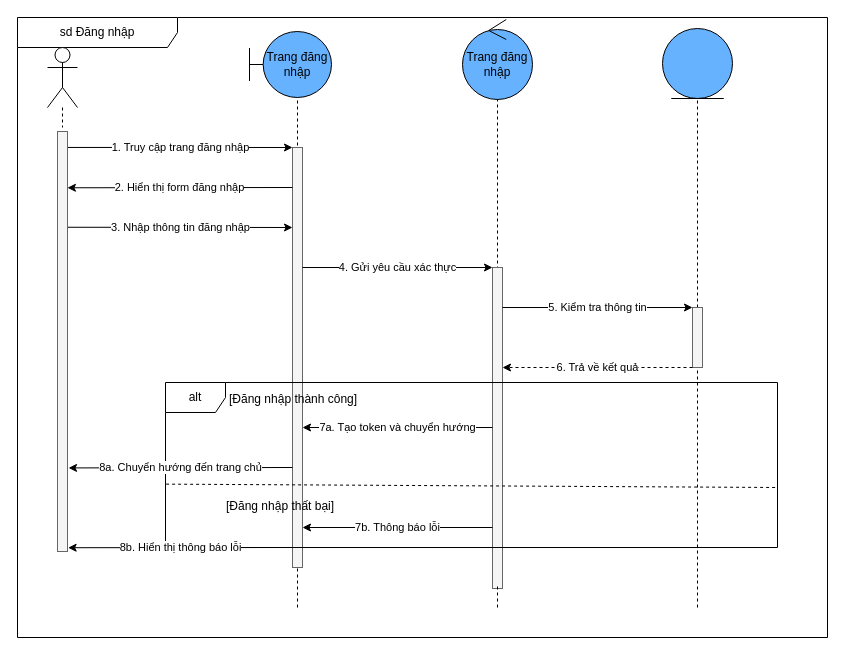
The diagram is 845 pixels wide and 655 high, and some of its shapes have lost their labels. Each missing label, with the centre of its shape:
Database: (697,63)
Người dùng: (62,77)
